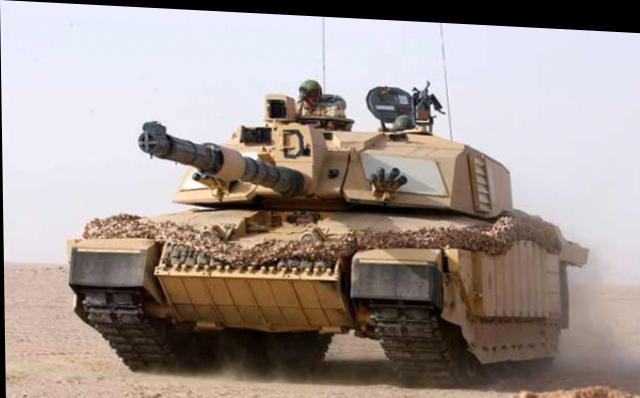tank: (80, 83, 575, 381)
